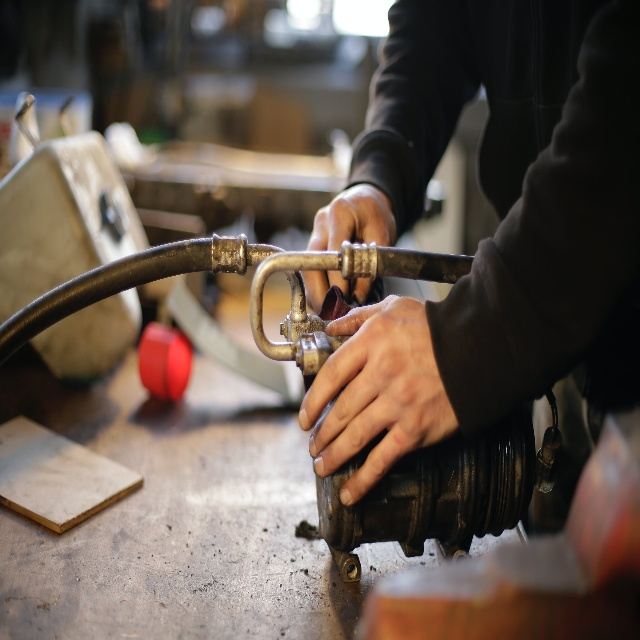Sin_guantes: (298, 283, 442, 508), (302, 188, 396, 308)
